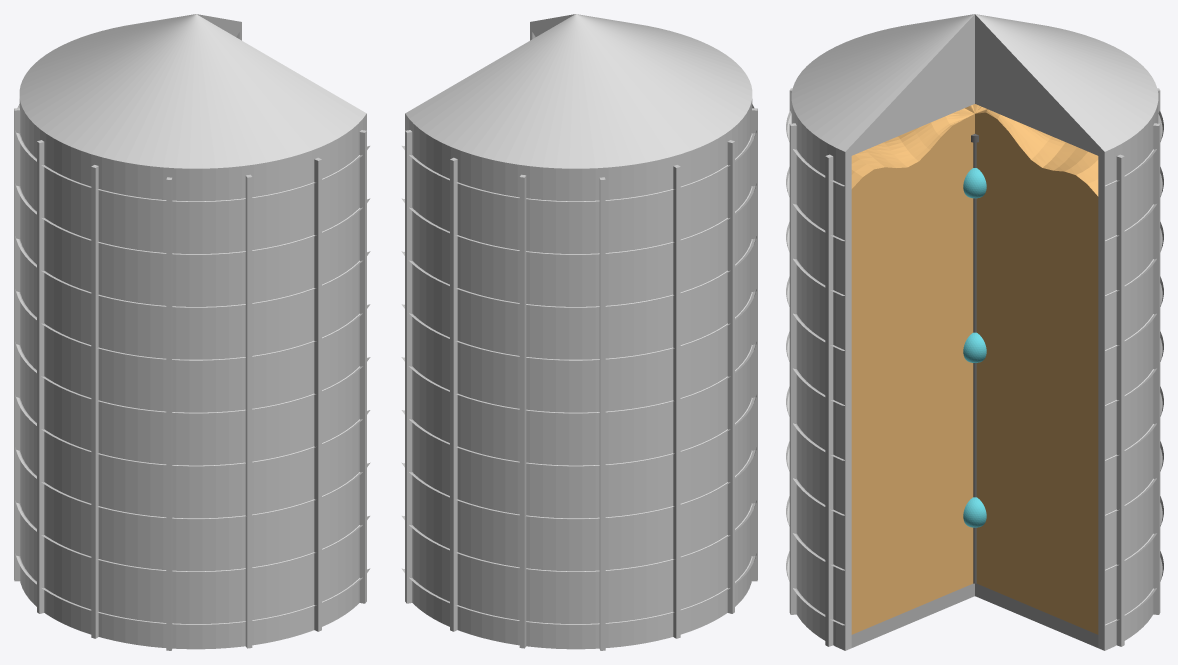
The model's file is silo_cutaway.glb.
3 views of the same model, side by side, from view 1: azimuth 30°, elevation 25°; view 2: azimuth 150°, elevation 25°; view 3: azimuth 270°, elevation 25° (orthographic). The views are drawn at different scales.
Visible parts, largest first — view 1: Silo.Cutaway; view 2: Silo.Cutaway; view 3: Grain_Volume, Silo.Cutaway, Silo.Cutaway_Floor, Cable, Sensor.002, Sensor.003, Sensor.001.
Boxes of the visible parts, x1=… form: Silo.Cutaway: x1=14, y1=14, x2=370, y2=650; Silo.Cutaway: x1=401, y1=14, x2=757, y2=650; Grain_Volume: x1=851, y1=104, x2=1098, y2=634; Silo.Cutaway: x1=786, y1=14, x2=1163, y2=650; Silo.Cutaway_Floor: x1=851, y1=583, x2=1098, y2=647; Cable: x1=971, y1=134, x2=978, y2=583; Sensor.002: x1=963, y1=332, x2=986, y2=362; Sensor.003: x1=963, y1=497, x2=986, y2=527; Sensor.001: x1=963, y1=168, x2=986, y2=198.
Size of what is drawn, in the model's own units: 1.76 by 3.5 by 2.06.
